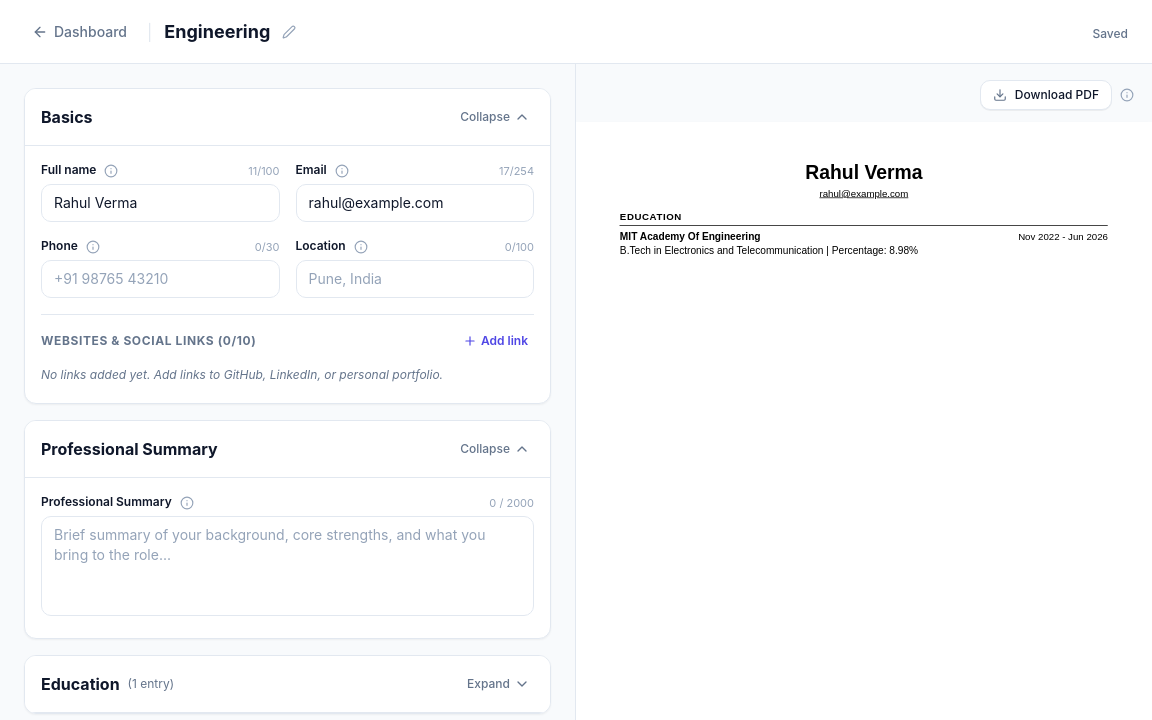
Test: Grade Type Switch & Hint (Part 2) › switches grade type from percentage to cgpa for existing entry with 8.98, updates preview and autosaves
The width and height of the screenshot is (1152, 720).
Check: the heading "Engineering" is shown, box [164,18,270,46]
Check: the text "Percentage: 8.98%" is shown, box [620,244,918,256]
Step 1. Click the button "Expand" → x=499, y=684, box [463,672,534,696]
(page scrolled)
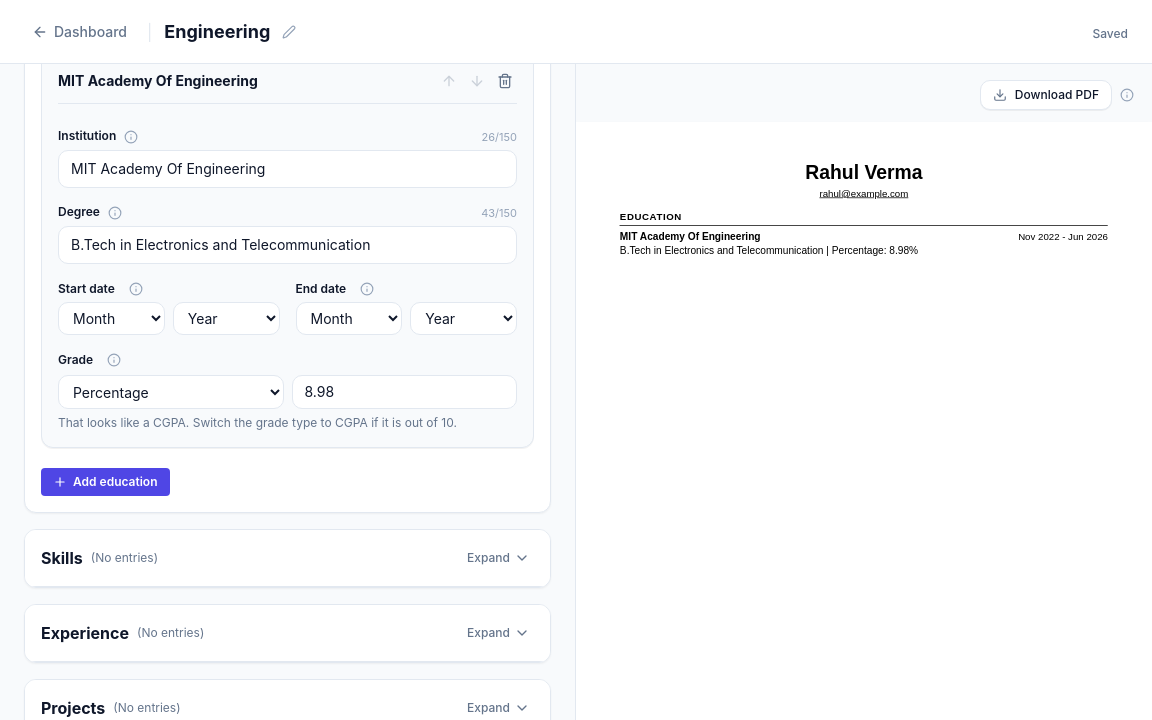
Check: the dropdown named "grade type" shows "Percentage"
Step 2. Select "CGPA" in the dropdown named "grade type" → x=171, y=392, box [58,375,284,409]
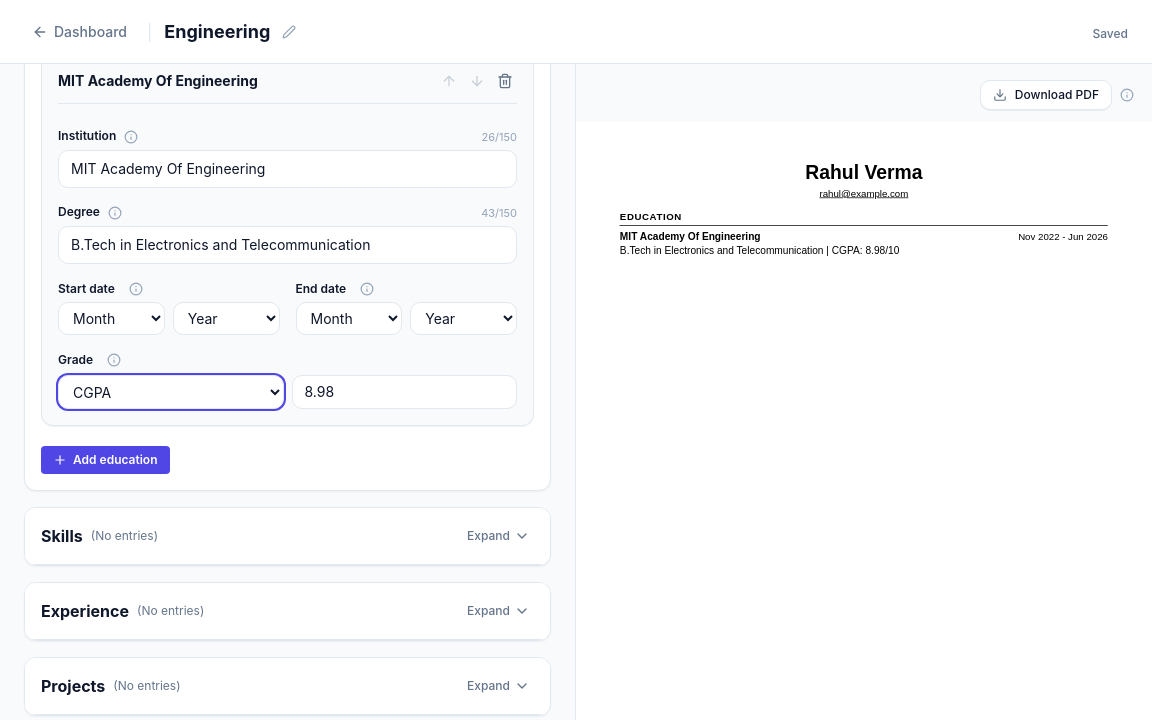
Check: the text "B.Tech in Electronics and Telecommunication | CGPA: 8.98/10" is shown, box [620,244,899,256]
